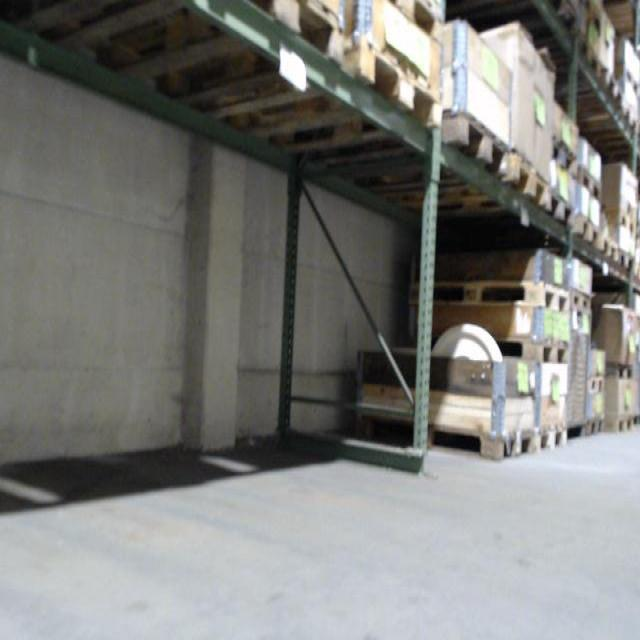pallet: (66, 3, 348, 129), (238, 39, 444, 131), (314, 115, 513, 188), (395, 151, 556, 222), (352, 414, 534, 459), (410, 275, 570, 315), (336, 1, 449, 49), (522, 41, 617, 94), (406, 331, 574, 360), (462, 1, 584, 40), (571, 90, 638, 142), (569, 2, 620, 49), (546, 189, 578, 236), (550, 139, 579, 184), (572, 212, 598, 259), (596, 208, 638, 237), (609, 61, 640, 93), (536, 424, 566, 457), (581, 161, 602, 202), (600, 413, 634, 436), (571, 285, 596, 316), (600, 363, 634, 384), (600, 233, 617, 271), (616, 250, 637, 279), (583, 415, 608, 436), (584, 374, 608, 391)
